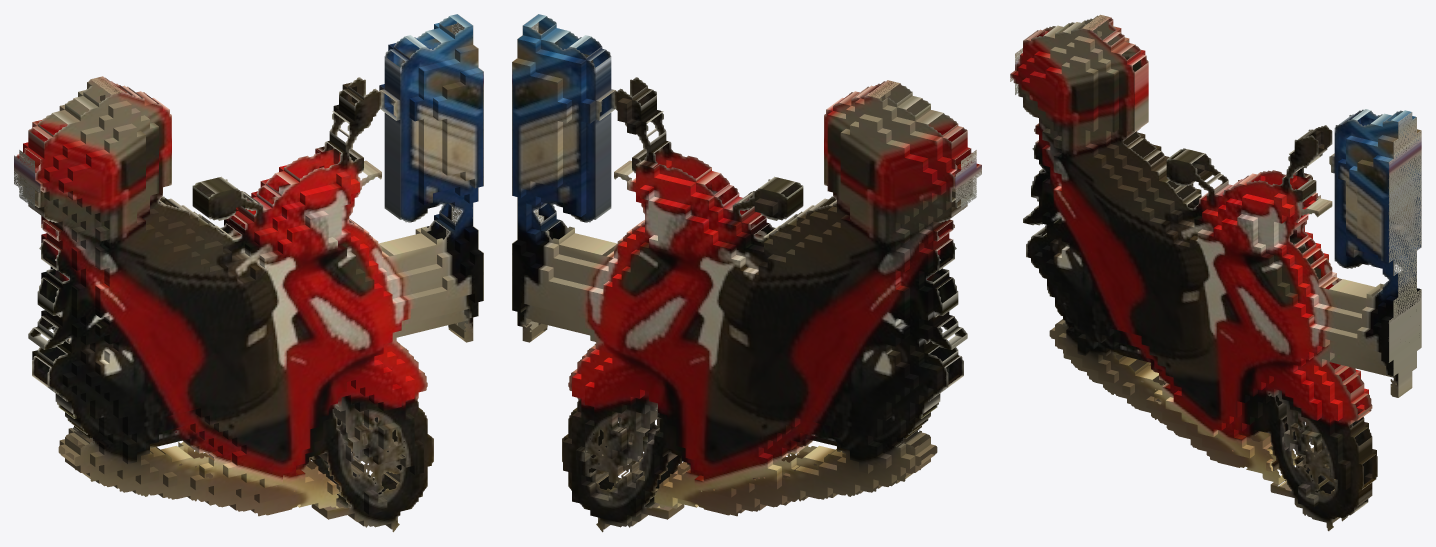
Rendered from veh_2.glb.
The picture shows the model from 3 angles, left to right: view 1: azimuth 30°, elevation 25°; view 2: azimuth 150°, elevation 25°; view 3: azimuth 330°, elevation 25°; orthographic projection. The views are drawn at different scales.
Parts seen in each view (by area): view 1: veh_2; view 2: veh_2; view 3: veh_2.
Part boxes in pixels (left/top/right/bottom): veh_2: left=14, top=14, right=483, bottom=532; veh_2: left=512, top=14, right=981, bottom=532; veh_2: left=1010, top=14, right=1421, bottom=531.
Size of the model in its own units: 48 by 53 by 7.
Materials: 1 (1 with a texture image).
